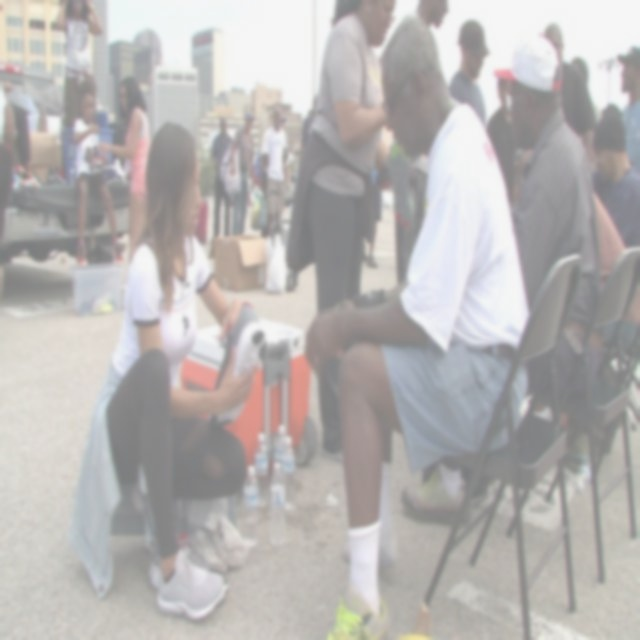pessoa: (302, 10, 531, 640), (62, 116, 268, 625), (289, 0, 398, 466), (491, 32, 588, 411), (383, 14, 464, 416), (586, 100, 640, 352), (71, 79, 125, 268), (99, 74, 151, 268), (55, 0, 103, 185), (542, 20, 594, 176), (448, 18, 491, 131), (258, 106, 291, 241), (485, 76, 518, 210), (223, 112, 256, 238), (0, 77, 17, 306), (616, 44, 640, 174), (360, 161, 388, 272), (566, 53, 598, 149), (210, 114, 233, 244), (300, 91, 320, 151)
